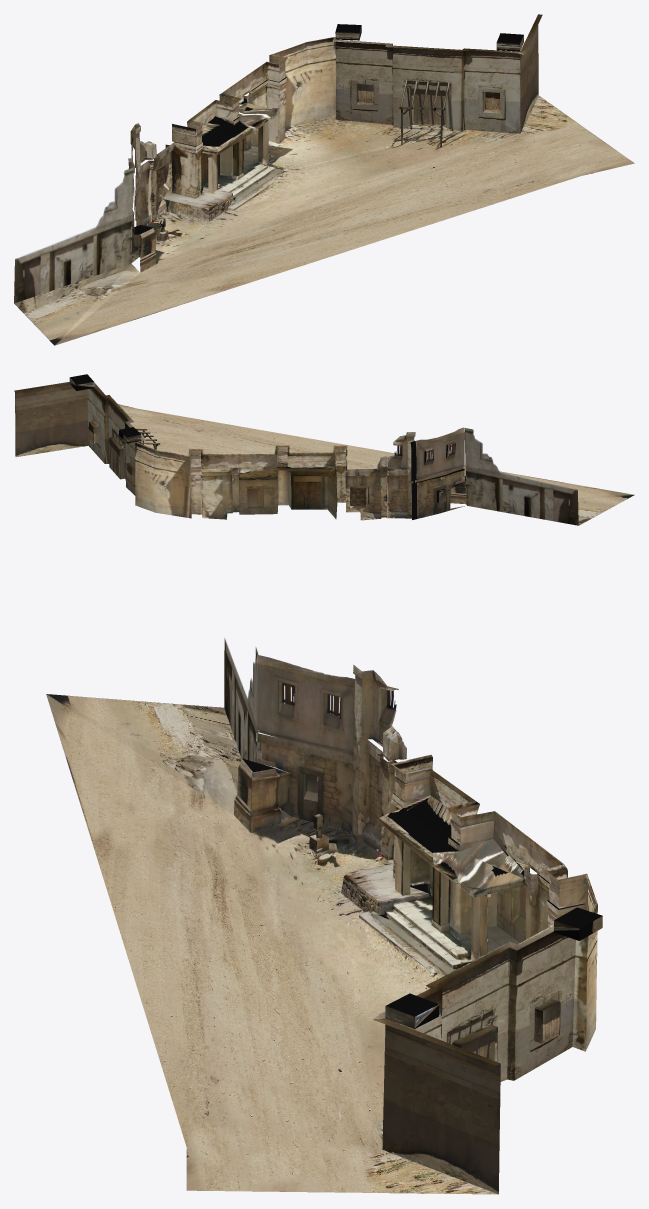
The model's file is sf-western-street-set-photogrametry-674e2c.glb.
3 views of the same model, one above another, from view 1: azimuth 30°, elevation 25°; view 2: azimuth 150°, elevation 25°; view 3: azimuth 270°, elevation 25° (orthographic). The views are drawn at different scales.
Visible parts, largest first — view 1: Ground new uv_05 - Default_0, Buliding003_Buliding 3_MG_2_TX_0, Building002_Building 2_MG_TX_0, Building001b_Edge Of Set Wall_MG_2_TX_0, Building001_Building 1_MG_TX_0; view 2: Building002_Building 2_MG_TX_0, Buliding003_Buliding 3_MG_2_TX_0, Building001_Building 1_MG_TX_0, Ground new uv_05 - Default_0, Building001b_Edge Of Set Wall_MG_2_TX_0; view 3: Ground new uv_05 - Default_0, Buliding003_Buliding 3_MG_2_TX_0, Building002_Building 2_MG_TX_0, Building001_Building 1_MG_TX_0, Building001b_Edge Of Set Wall_MG_2_TX_0.
Part boxes in pixels (bbox=[...]): Ground new uv_05 - Default_0: bbox=[14, 95, 634, 345]; Buliding003_Buliding 3_MG_2_TX_0: bbox=[333, 14, 542, 133]; Building002_Building 2_MG_TX_0: bbox=[164, 37, 335, 221]; Building001b_Edge Of Set Wall_MG_2_TX_0: bbox=[14, 167, 133, 303]; Building001_Building 1_MG_TX_0: bbox=[128, 123, 174, 272]; Building002_Building 2_MG_TX_0: bbox=[135, 440, 347, 519]; Buliding003_Buliding 3_MG_2_TX_0: bbox=[14, 374, 158, 495]; Building001_Building 1_MG_TX_0: bbox=[345, 427, 466, 520]; Ground new uv_05 - Default_0: bbox=[118, 404, 634, 525]; Building001b_Edge Of Set Wall_MG_2_TX_0: bbox=[464, 428, 578, 525]; Ground new uv_05 - Default_0: bbox=[46, 694, 497, 1194]; Buliding003_Buliding 3_MG_2_TX_0: bbox=[373, 907, 602, 1194]; Building002_Building 2_MG_TX_0: bbox=[341, 754, 597, 1051]; Building001_Building 1_MG_TX_0: bbox=[234, 654, 406, 860]; Building001b_Edge Of Set Wall_MG_2_TX_0: bbox=[224, 638, 258, 762].
Size of what is drawn, in the model's own units: 44.29 by 7.34 by 20.99.
Materials: 17 (17 with a texture image).
